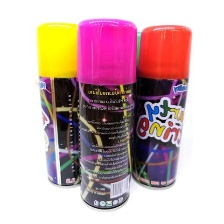aerosol_cans: (74, 16, 140, 216), (123, 20, 196, 194), (30, 19, 94, 190)
